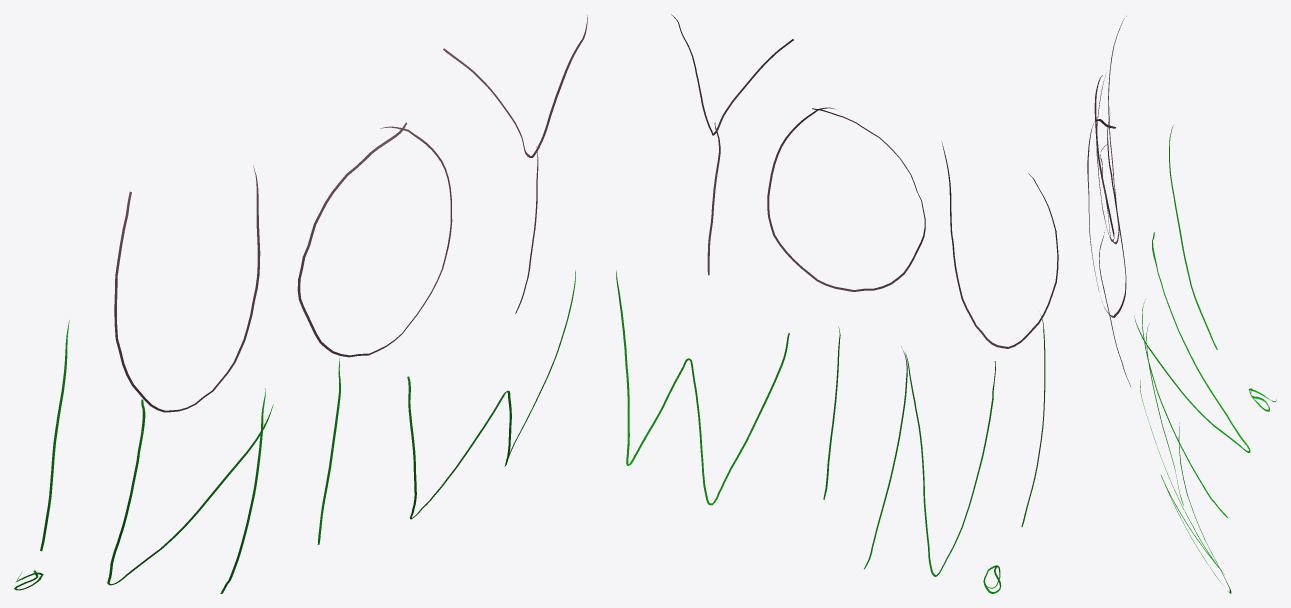
3 views of the same model, side by side, from view 1: azimuth 30°, elevation 25°; view 2: azimuth 150°, elevation 25°; view 3: azimuth 270°, elevation 25° (orthographic). The views are drawn at different scales.
Visible parts, largest first — view 1: Electricity_geo; view 2: Electricity_geo; view 3: Electricity_geo.
Part boxes in pixels (x1,y1,x2,y2): Electricity_geo: (14,15,587,593); Electricity_geo: (616,14,1058,593); Electricity_geo: (1087,16,1276,593).
Size of the model in its own units: 1.19 by 1.21 by 0.4068.
